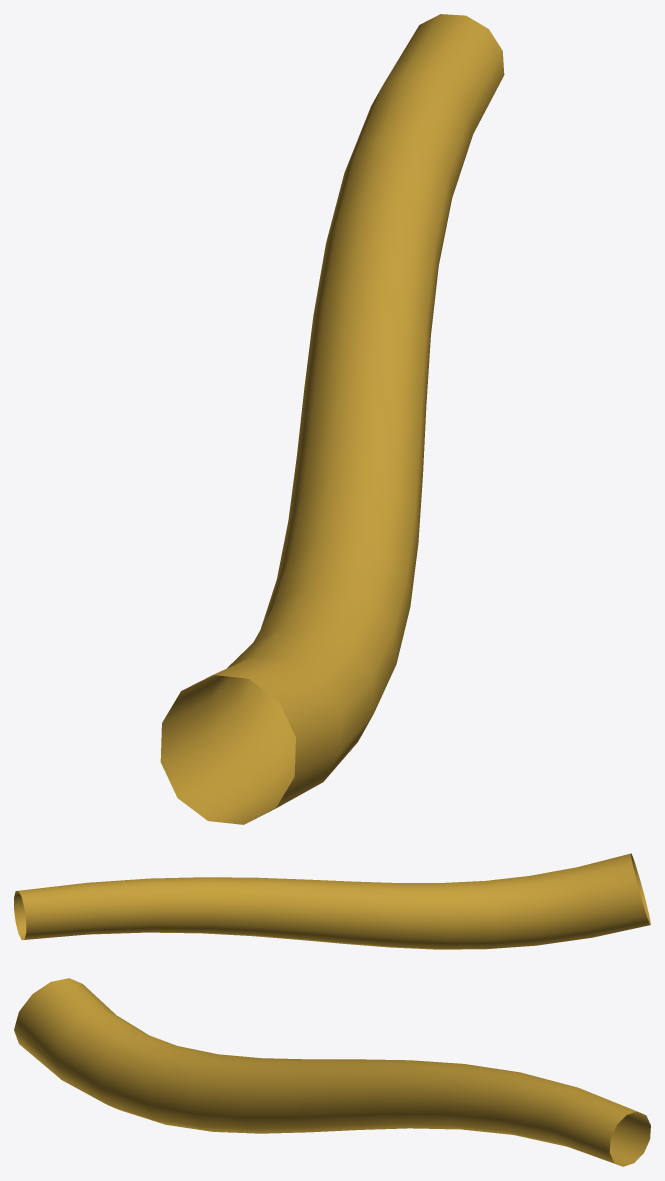
3 views of the same model, one above another, from view 1: azimuth 30°, elevation 25°; view 2: azimuth 150°, elevation 25°; view 3: azimuth 270°, elevation 25° (orthographic). The views are drawn at different scales.
Parts seen in each view (by area): view 1: 左侧臂丛中干后股; view 2: 左侧臂丛中干后股; view 3: 左侧臂丛中干后股.
Part boxes in pixels (x1=…): 左侧臂丛中干后股: x1=160, y1=14, x2=504, y2=824; 左侧臂丛中干后股: x1=14, y1=853, x2=650, y2=949; 左侧臂丛中干后股: x1=14, y1=978, x2=650, y2=1166.
Size of the model in its own units: 0.0268 by 0.00882 by 0.0321.
